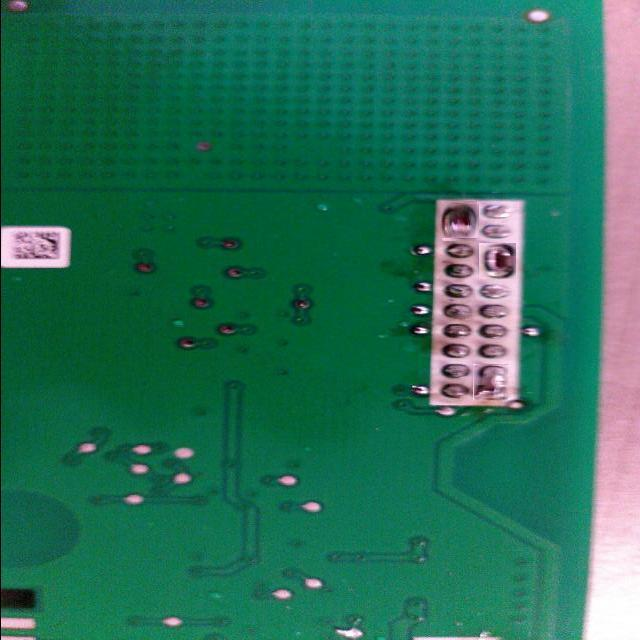Short_circuit: (441, 202, 478, 240), (479, 243, 516, 279), (473, 364, 508, 400)
